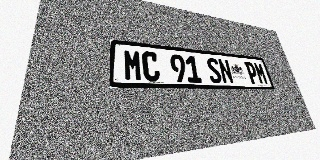1: (184, 55, 202, 83)
9: (169, 54, 188, 82)
C: (141, 51, 161, 82)
M: (123, 49, 143, 81), (253, 62, 269, 84)
N: (217, 59, 234, 84)
P: (244, 61, 260, 84)
S: (205, 57, 223, 83)
